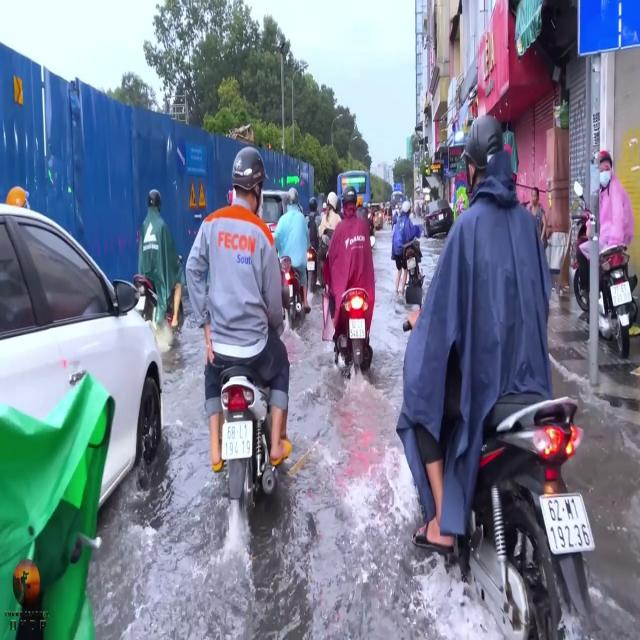bien_trang: (542, 493, 596, 553), (221, 420, 254, 462)
